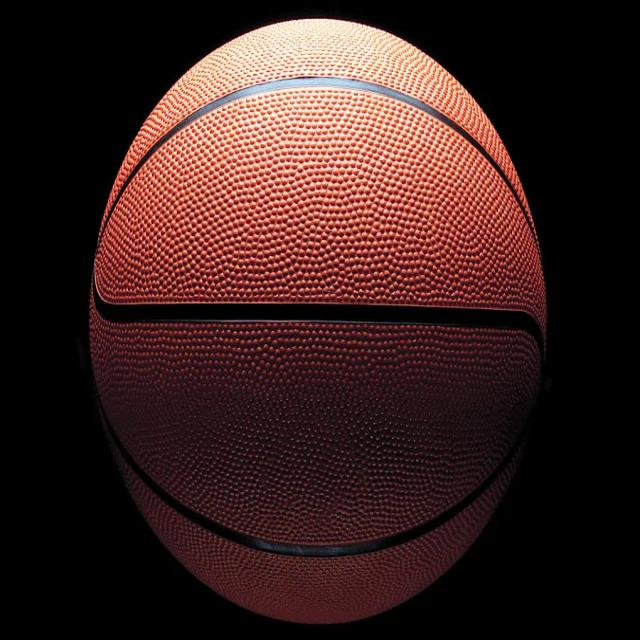basketball: (51, 10, 562, 632)
